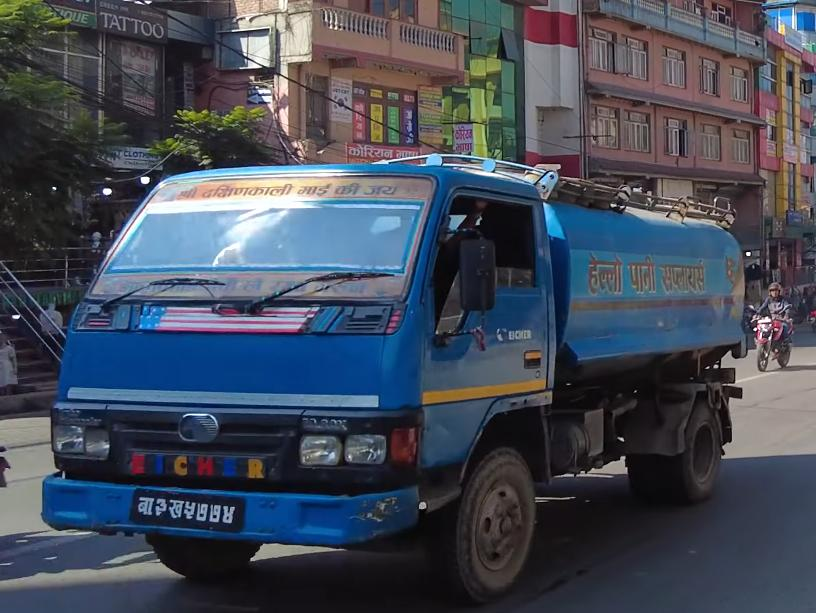bike: (747, 272, 798, 381)
mini_truck: (32, 136, 753, 605)
